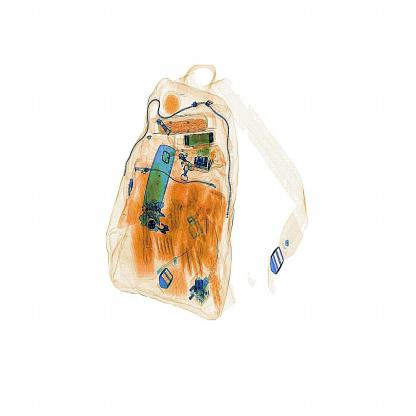pliers: (140, 186, 152, 266)
